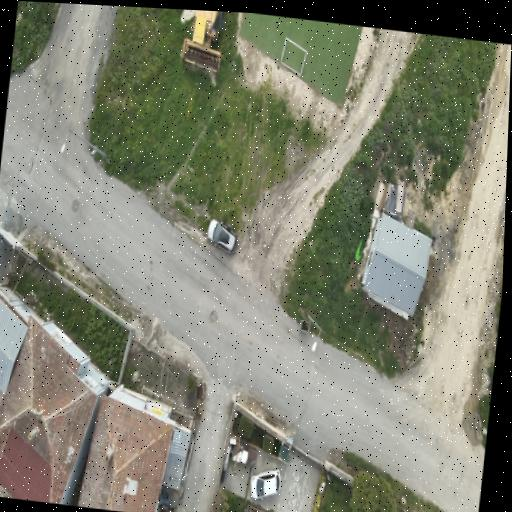car: (208, 218, 237, 253), (251, 468, 281, 498)
harvester: (183, 10, 223, 74)
